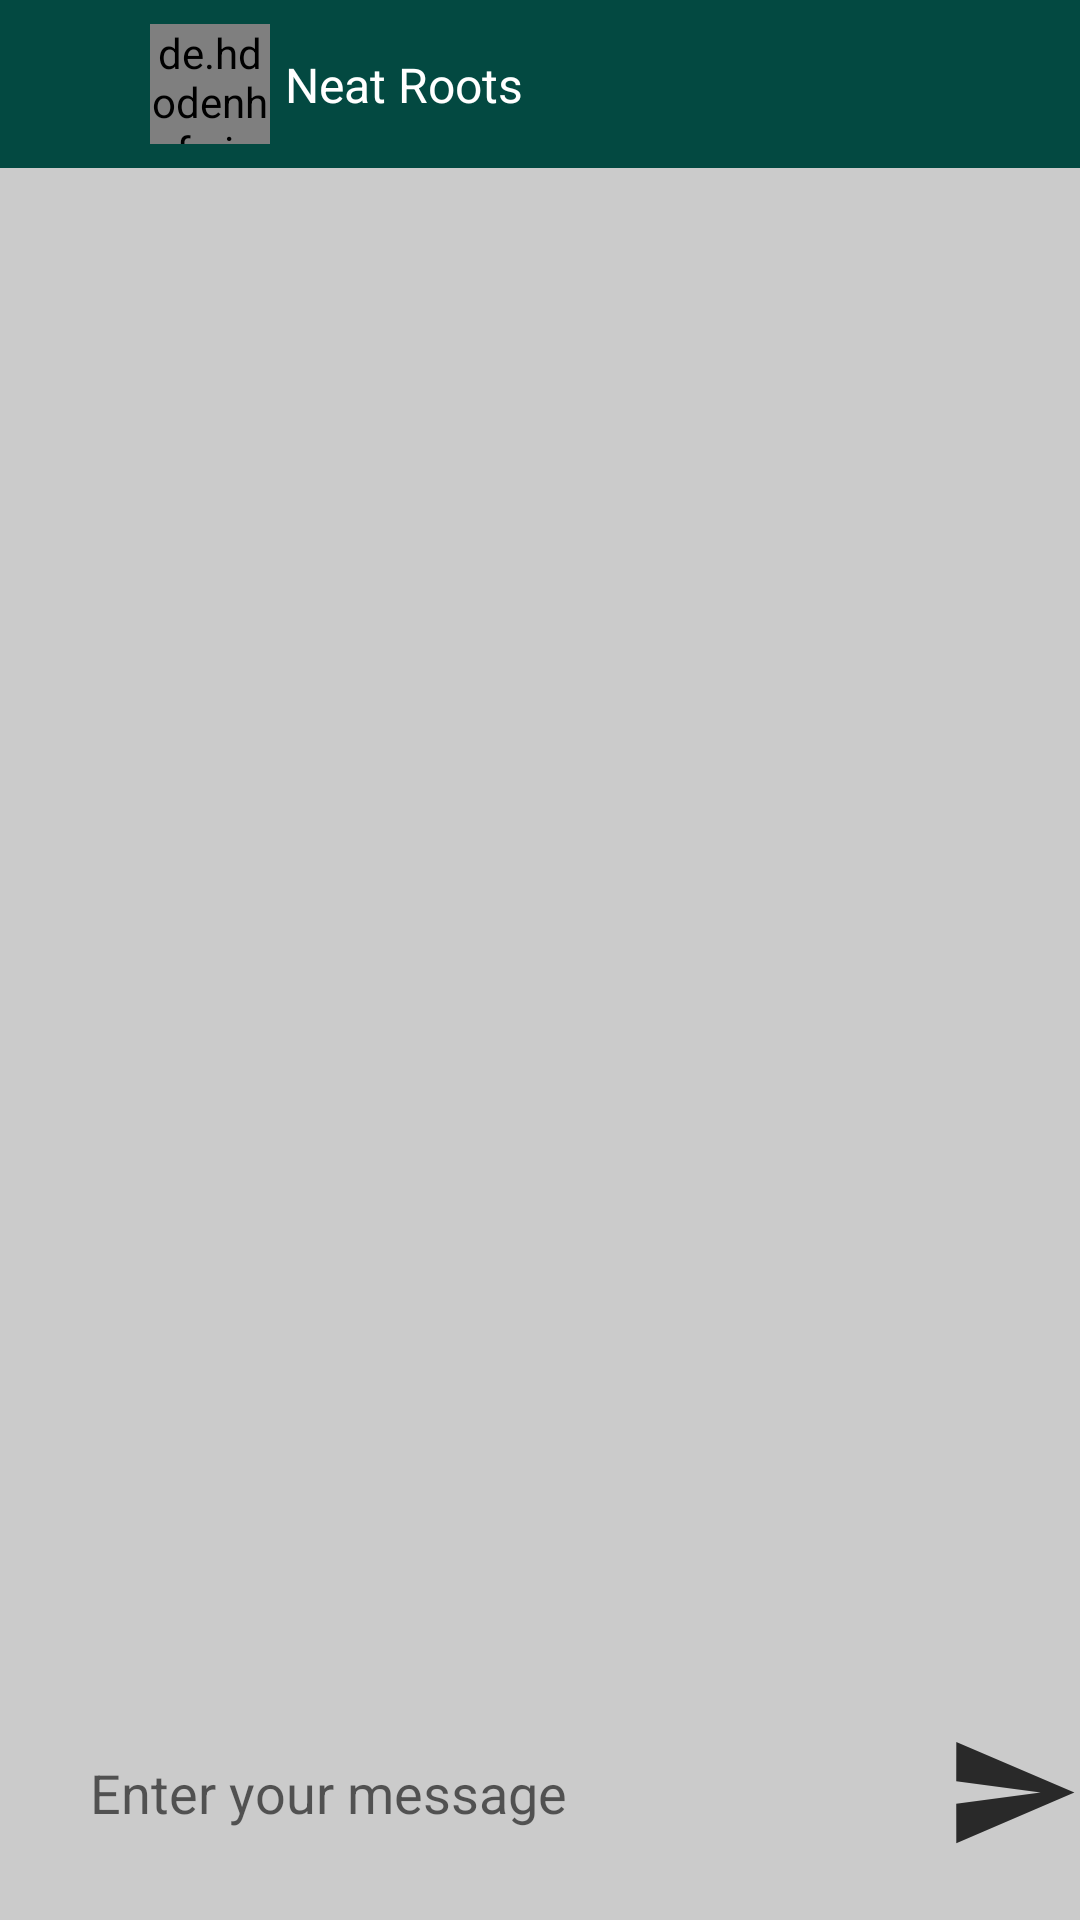

Icon bounding boxes for this 1080×1920 phone screenshot, format (x1, y1, x2, y2):
send: (956, 1742, 1074, 1843)
